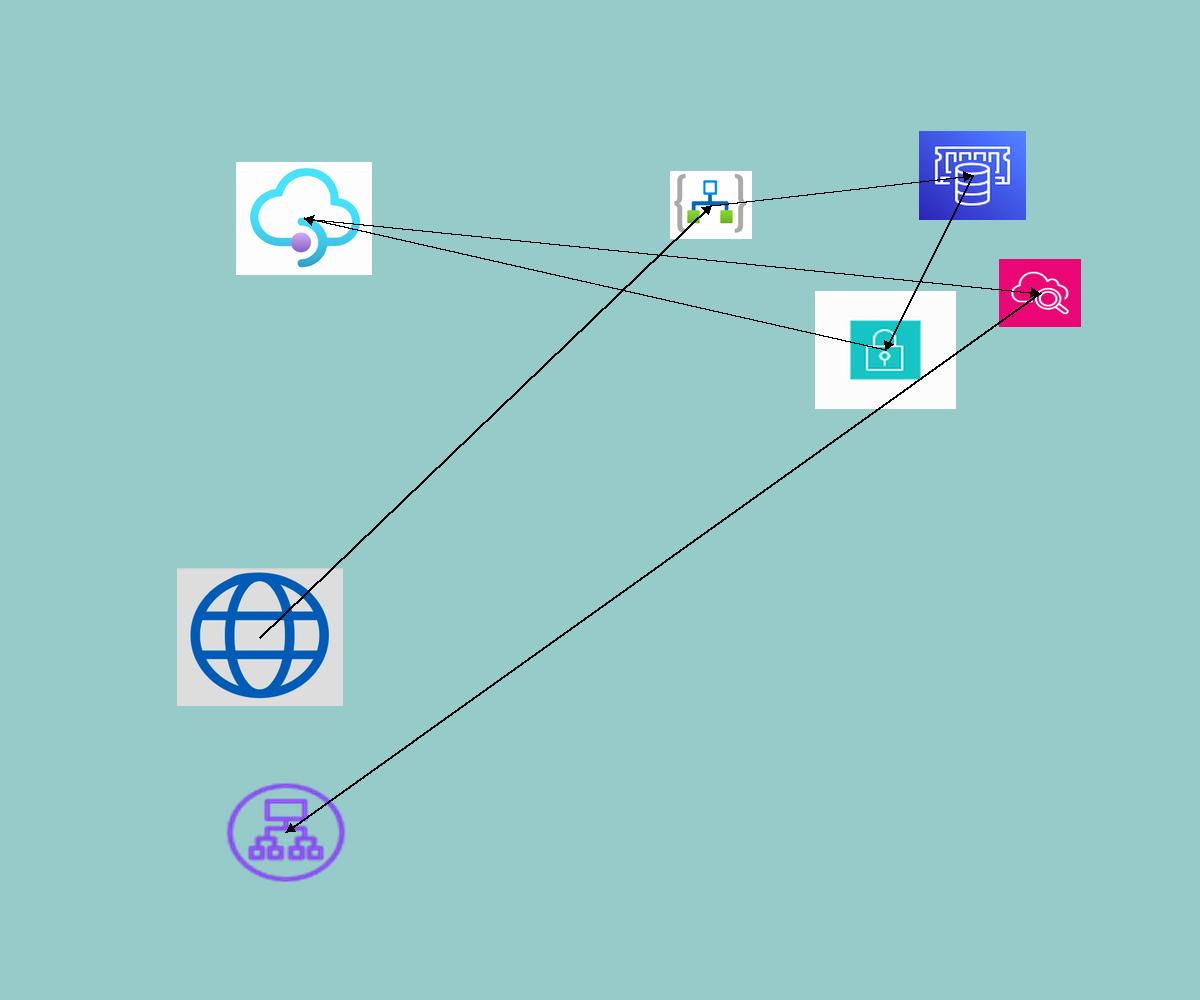AWS-CloudWatch: (999, 259, 1081, 327)
AWS-ElastiCache: (919, 131, 1026, 220)
AWS-Private-subnet: (815, 291, 956, 409)
AWS-Res_Elastic-Load-Balancing_Application-Load-Balancer: (222, 779, 350, 886)
Azure_api_gateway: (236, 162, 372, 275)
Azure_http: (177, 568, 343, 706)
Azure_integration-204-Logic-Apps: (670, 171, 752, 239)
